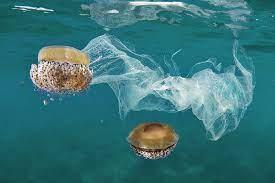Trash: (80, 28, 264, 135)
